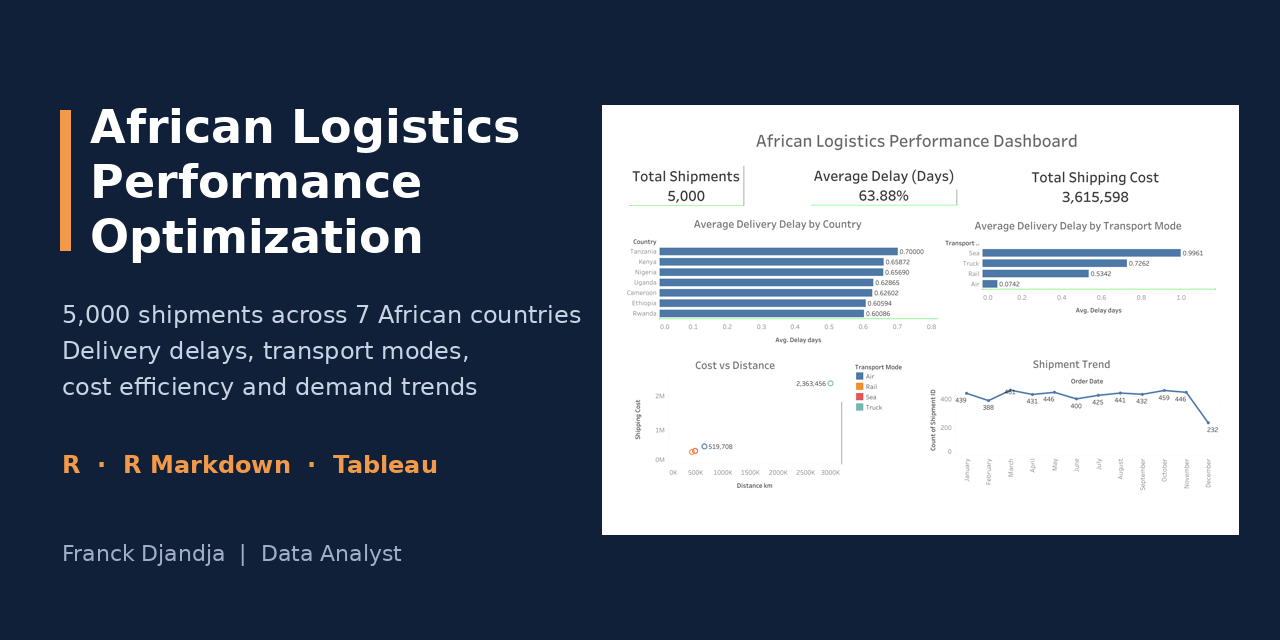

Layout of this report page (visuals, bound fields, positions):
{"tool":"tableau","page":{"name":"African Logistics Performance Dashboard","canvas":[1200,800],"ordinal":0},"visuals":[{"type":"text","box":[81,15,1025,74]},{"type":"worksheet","title":"KPI Avg Delay","mark":"Automatic","box":[390,101,401,83]},{"type":"worksheet","title":"KPI Total Shipments","mark":"Automatic","box":[38,102,303,81]},{"type":"worksheet","title":"KPI Total Cost","mark":"Automatic","box":[809,104,371,84]},{"type":"worksheet","title":"Delay by Country","mark":"Automatic","rows":["Country"],"cols":["Delay_days"],"box":[15,194,619,261]},{"type":"worksheet","title":"Delay by Transport Mode","mark":"Automatic","rows":["Transport_Mode"],"cols":["Delay_days"],"box":[640,197,531,207]},{"type":"worksheet","title":"Shipment Trend","mark":"Automatic","rows":["Shipment_ID"],"cols":["Order_Date"],"box":[608,465,570,278]},{"type":"worksheet","title":"Cost vs Distance","mark":"Automatic","rows":["Shipping_Cost"],"cols":["Distance_km"],"box":[37,467,410,269]},{"type":"legend","title":"Cost vs Distance","param":"[federated.0srpnsu06vfe6e0zmqe9t0p0dyim].[none:Transport_Mode:nk]","box":[473,480,97,99]}]}

Visuals, with their boxes on the page's 1200x800 design canvas (x1, y1, x2, y2). These are canvas units, not pixel positions in the 1280x640 screenshot, which may show the page scaled, cropped or inside an application window:
text: <box>81,15,1106,89</box>
"KPI Avg Delay" worksheet: <box>390,101,791,184</box>
"KPI Total Shipments" worksheet: <box>38,102,341,183</box>
"KPI Total Cost" worksheet: <box>809,104,1180,188</box>
"Delay by Country" worksheet: <box>15,194,634,455</box>
"Delay by Transport Mode" worksheet: <box>640,197,1171,404</box>
"Shipment Trend" worksheet: <box>608,465,1178,743</box>
"Cost vs Distance" worksheet: <box>37,467,447,736</box>
"Cost vs Distance" legend: <box>473,480,570,579</box>
